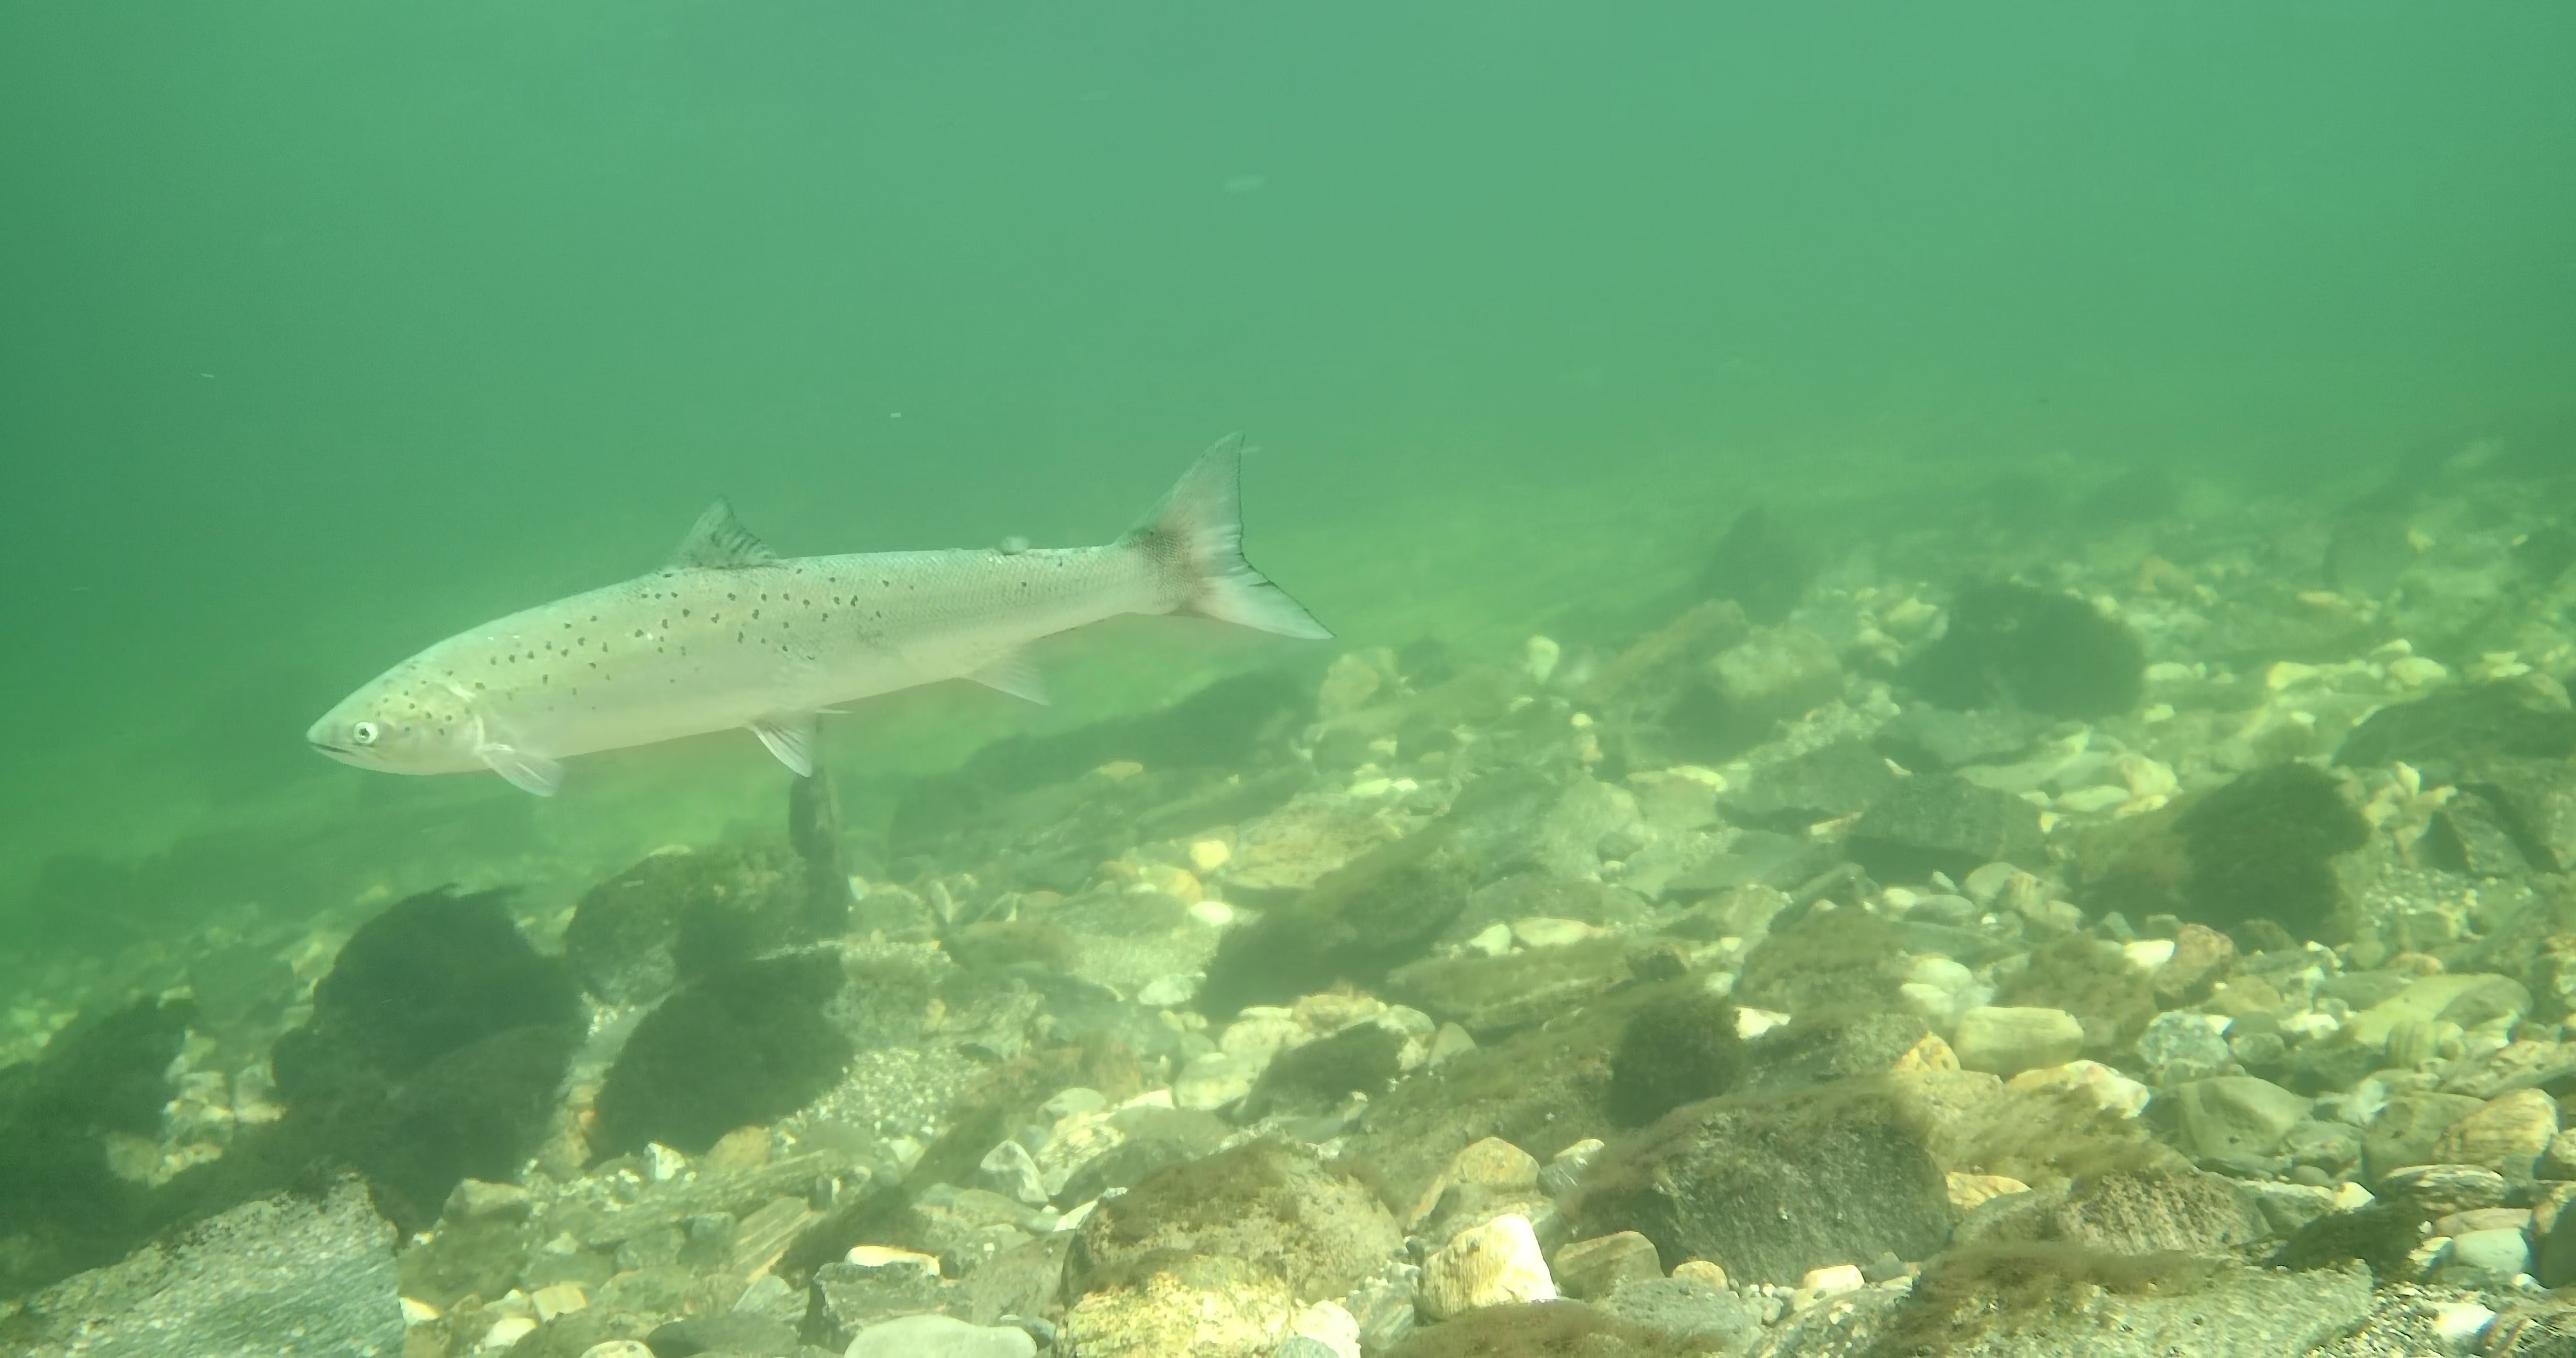salmon: (302, 426, 1339, 801)
